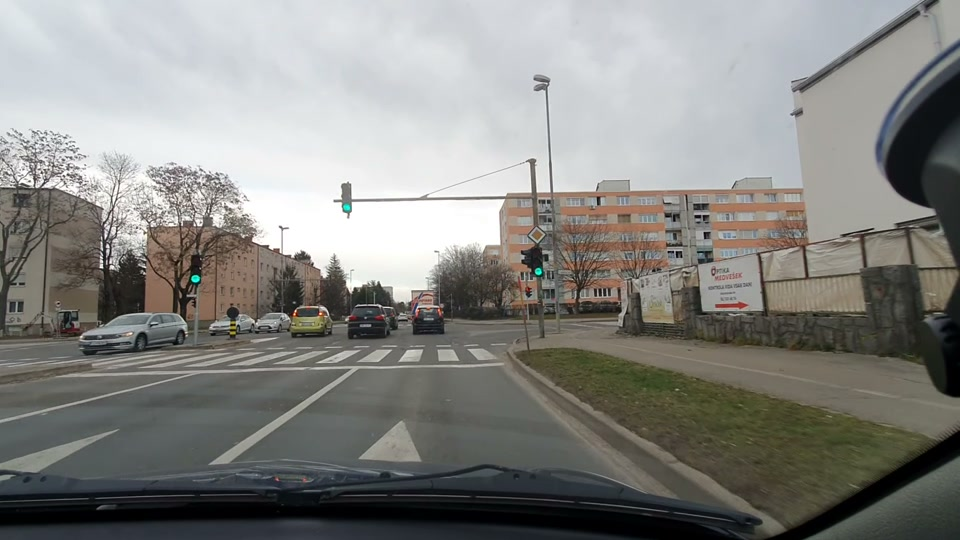vehicle_ign: (288, 300, 333, 341), (349, 301, 391, 344), (409, 303, 449, 343)
vehicle_s: (71, 304, 189, 357), (254, 310, 290, 336)
